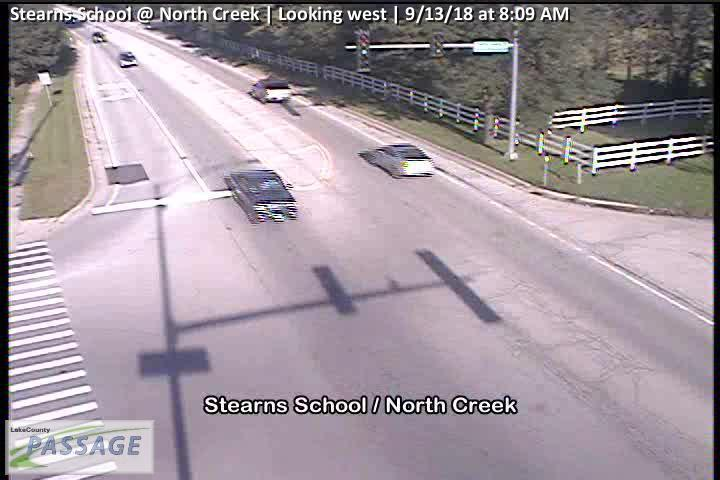SUV: (231, 170, 297, 224), (252, 79, 291, 102)
Sedan: (375, 144, 435, 178), (119, 52, 137, 67), (92, 31, 106, 43)
